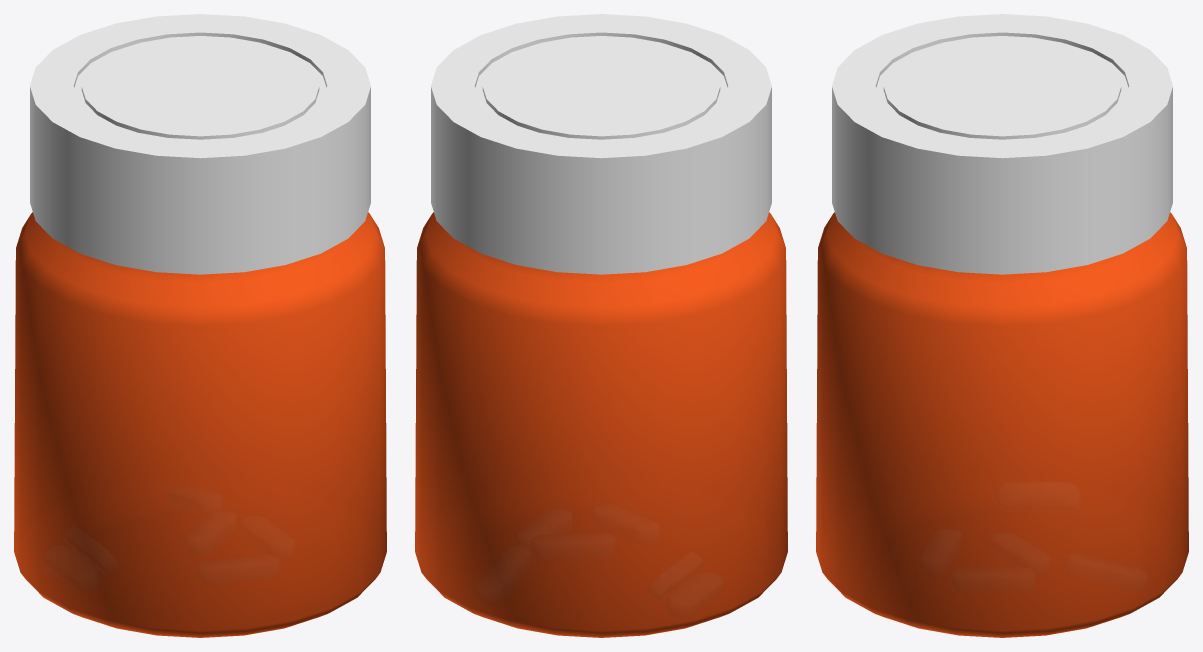
3 renders of one model, left to right at view 1: azimuth 30°, elevation 25°; view 2: azimuth 150°, elevation 25°; view 3: azimuth 270°, elevation 25°, orthographic.
Parts seen in each view (by area): view 1: mesh40/mesh40-geometry#mesh40-geometry_mesh40/mesh40-geometry#me; view 2: mesh40/mesh40-geometry#mesh40-geometry_mesh40/mesh40-geometry#me; view 3: mesh40/mesh40-geometry#mesh40-geometry_mesh40/mesh40-geometry#me.
Part boxes in pixels (<box>): mesh40/mesh40-geometry#mesh40-geometry_mesh40/mesh40-geometry#me: <box>14,14,386,637</box>; mesh40/mesh40-geometry#mesh40-geometry_mesh40/mesh40-geometry#me: <box>415,14,787,637</box>; mesh40/mesh40-geometry#mesh40-geometry_mesh40/mesh40-geometry#me: <box>816,14,1188,637</box>.
Bounding box in the file's own units: 1.14 × 1.62 × 1.14.
10 materials, 1 textured.
